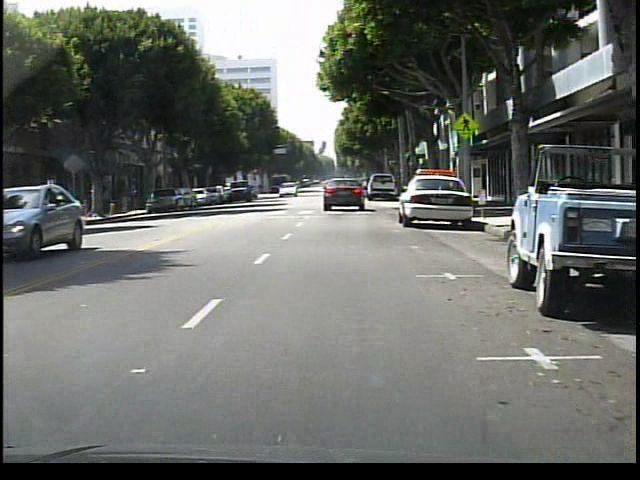person: (23, 179, 48, 230)
